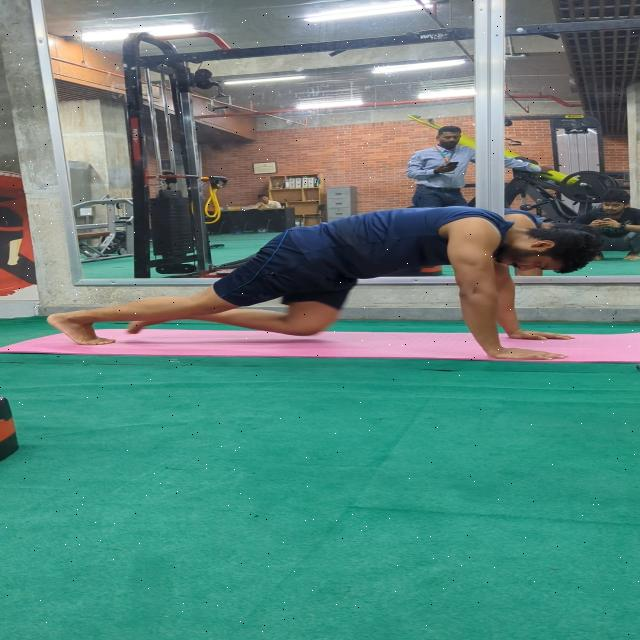Normal_MountainClimbers: (34, 192, 618, 360)
